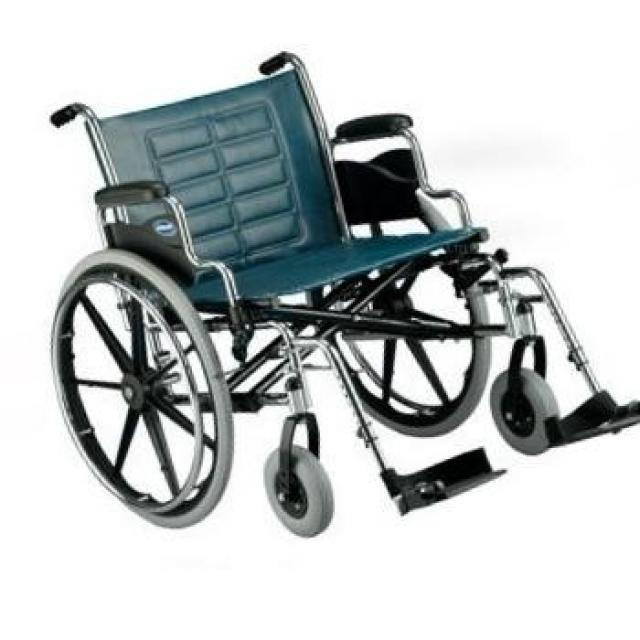wheelchair: (35, 46, 640, 542)
